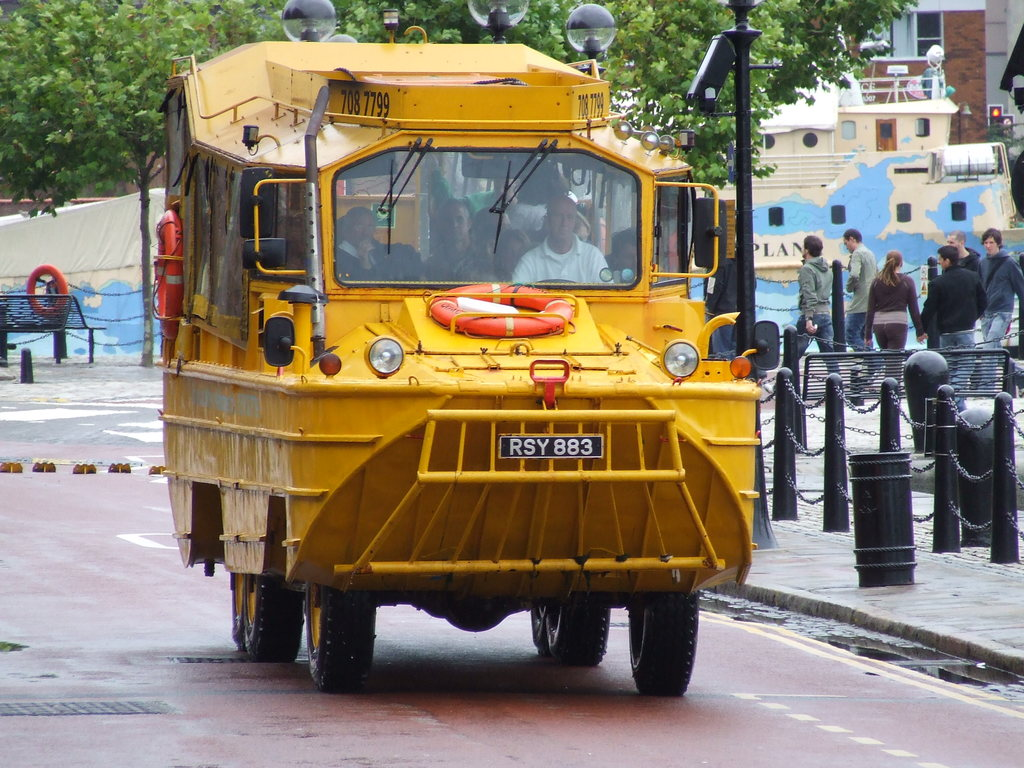Person: (334, 150, 1024, 413)
